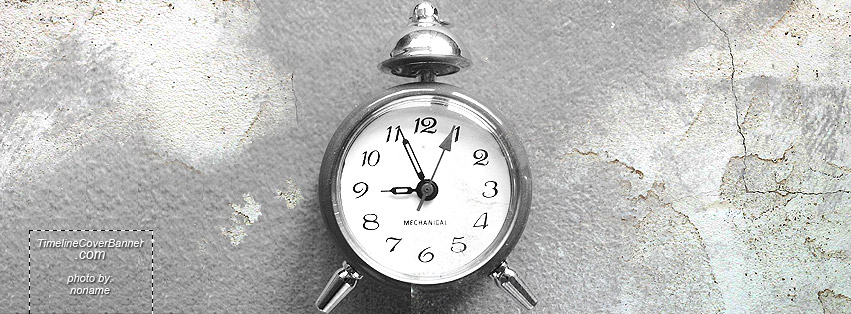clock: (337, 102, 518, 287)
